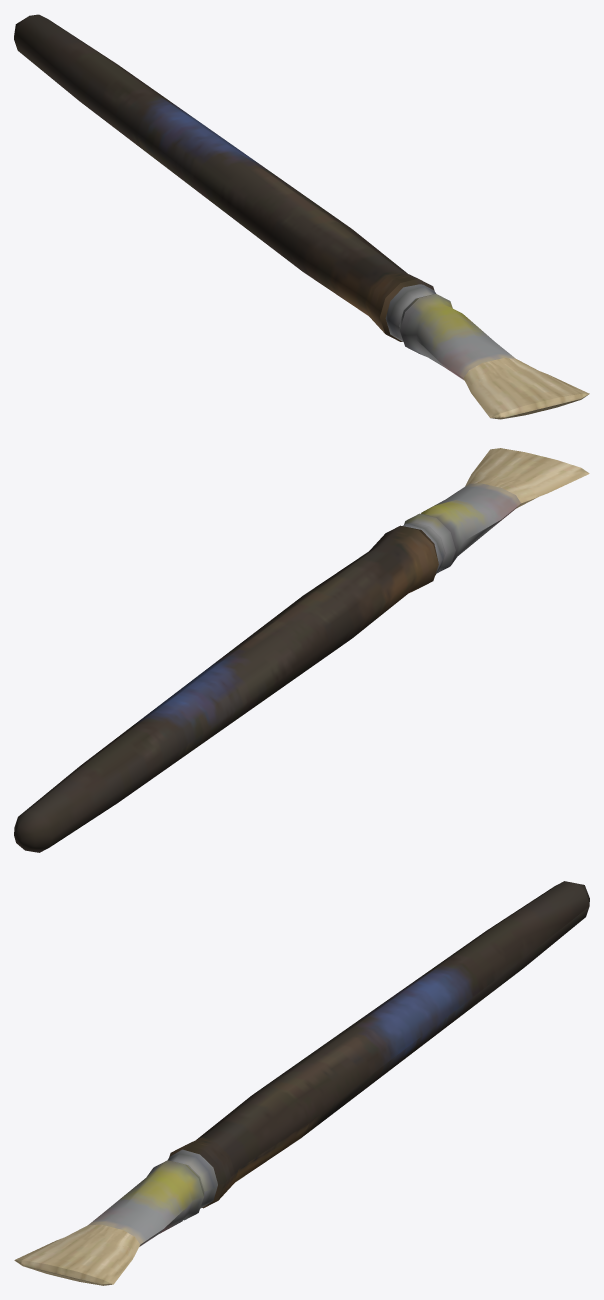
Rendered from SM_Brush_2.glb.
The picture shows the model from 3 angles, top to bottom: view 1: azimuth 30°, elevation 25°; view 2: azimuth 150°, elevation 25°; view 3: azimuth 330°, elevation 25°; orthographic projection.
Visible parts, largest first — view 1: SM_Brush_2; view 2: SM_Brush_2; view 3: SM_Brush_2.
Part boxes in pixels (x1,y1,x2,y2): SM_Brush_2: (14,14,589,419); SM_Brush_2: (14,448,589,852); SM_Brush_2: (14,881,589,1285).
Bounding box in the file's own units: 0.0367 × 0.0206 × 0.3319.
1 material, 1 textured.
